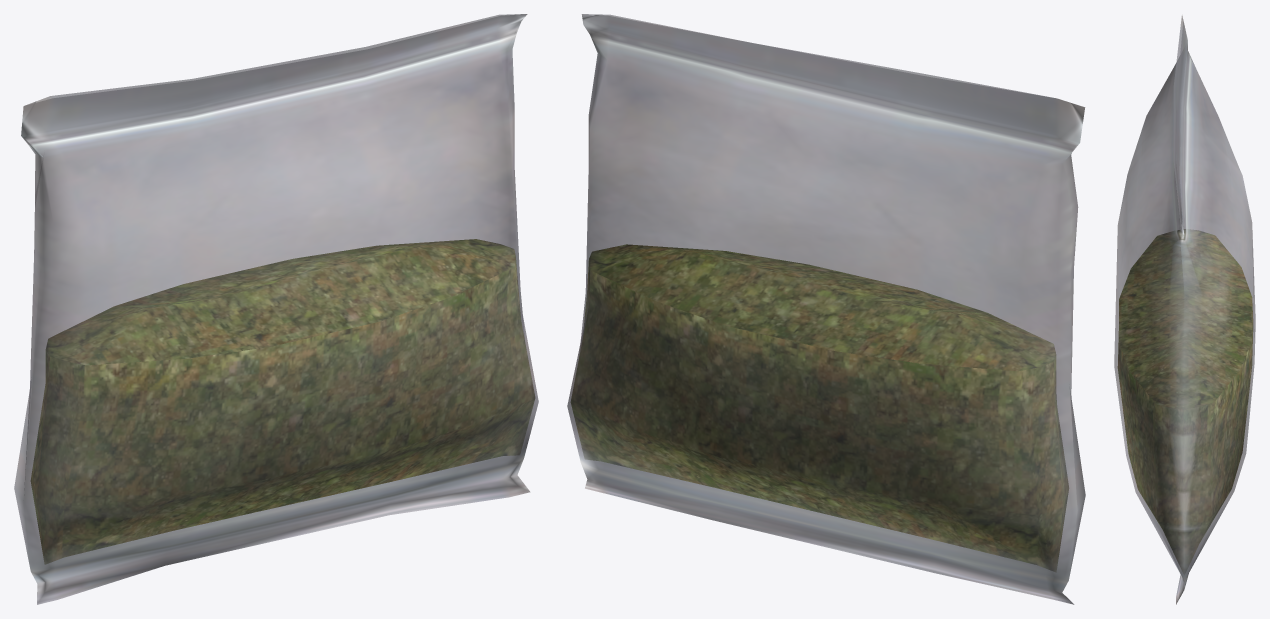
The model's file is ganja.glb.
3 views of the same model, side by side, from view 1: azimuth 30°, elevation 25°; view 2: azimuth 150°, elevation 25°; view 3: azimuth 270°, elevation 25° (orthographic). The views are drawn at different scales.
Visible parts, largest first — view 1: WeedBag2; view 2: WeedBag2; view 3: WeedBag2.
Part boxes in pixels (bbox=[...]): WeedBag2: bbox=[14, 14, 538, 604]; WeedBag2: bbox=[567, 14, 1085, 604]; WeedBag2: bbox=[1114, 15, 1255, 604].
Size of the model in its own units: 0.189 by 0.1812 by 0.0581.
Materials: 2 (2 with a texture image).
